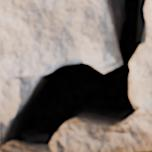brick: (0, 144, 43, 151)
broken_brick: (0, 0, 113, 77), (131, 5, 151, 111)
crack: (0, 0, 151, 151)
